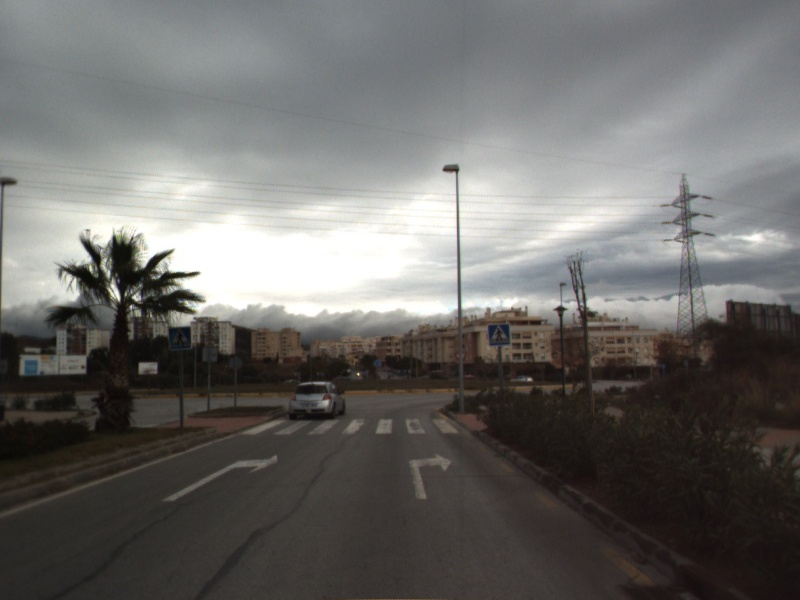RIGHT: (160, 452, 279, 503), (407, 452, 454, 501)
